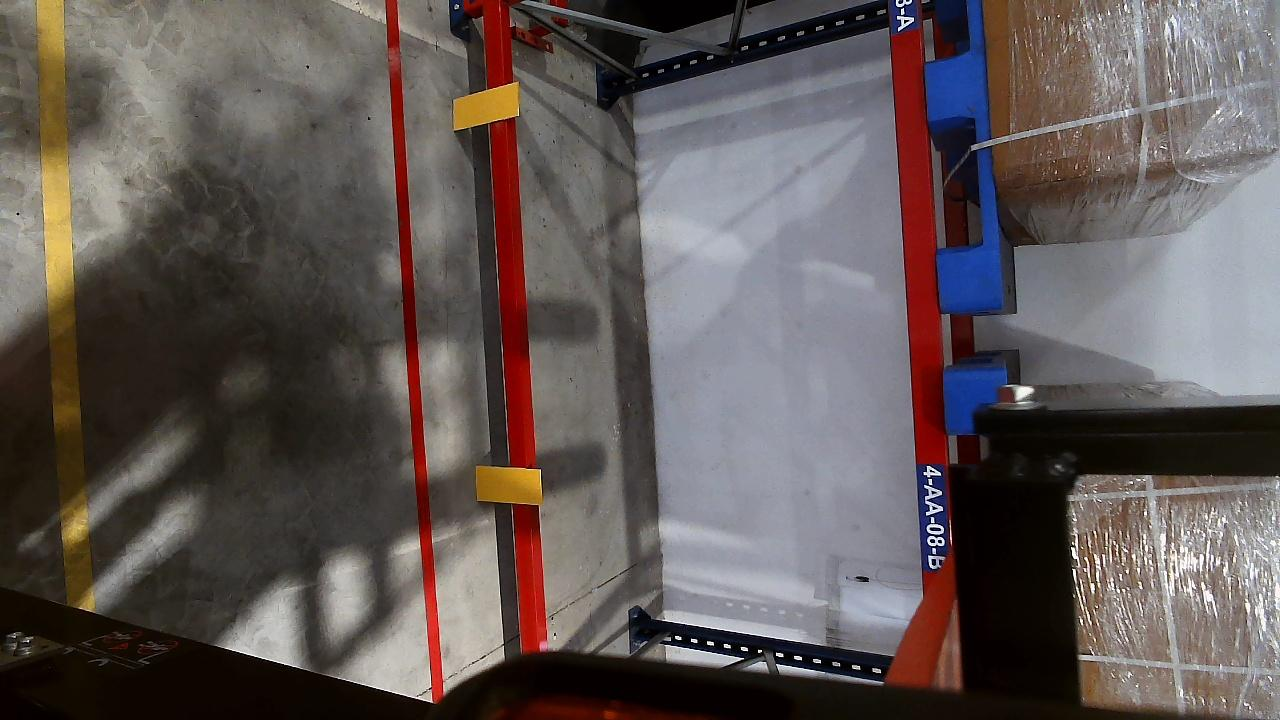h_rack: (480, 1, 555, 651), (883, 0, 953, 598)
orange_strip: (451, 83, 520, 130), (475, 466, 542, 505)
red_line: (386, 6, 441, 687)
small_pallet: (915, 1, 1008, 307)
yellow_line: (35, 0, 91, 614)
